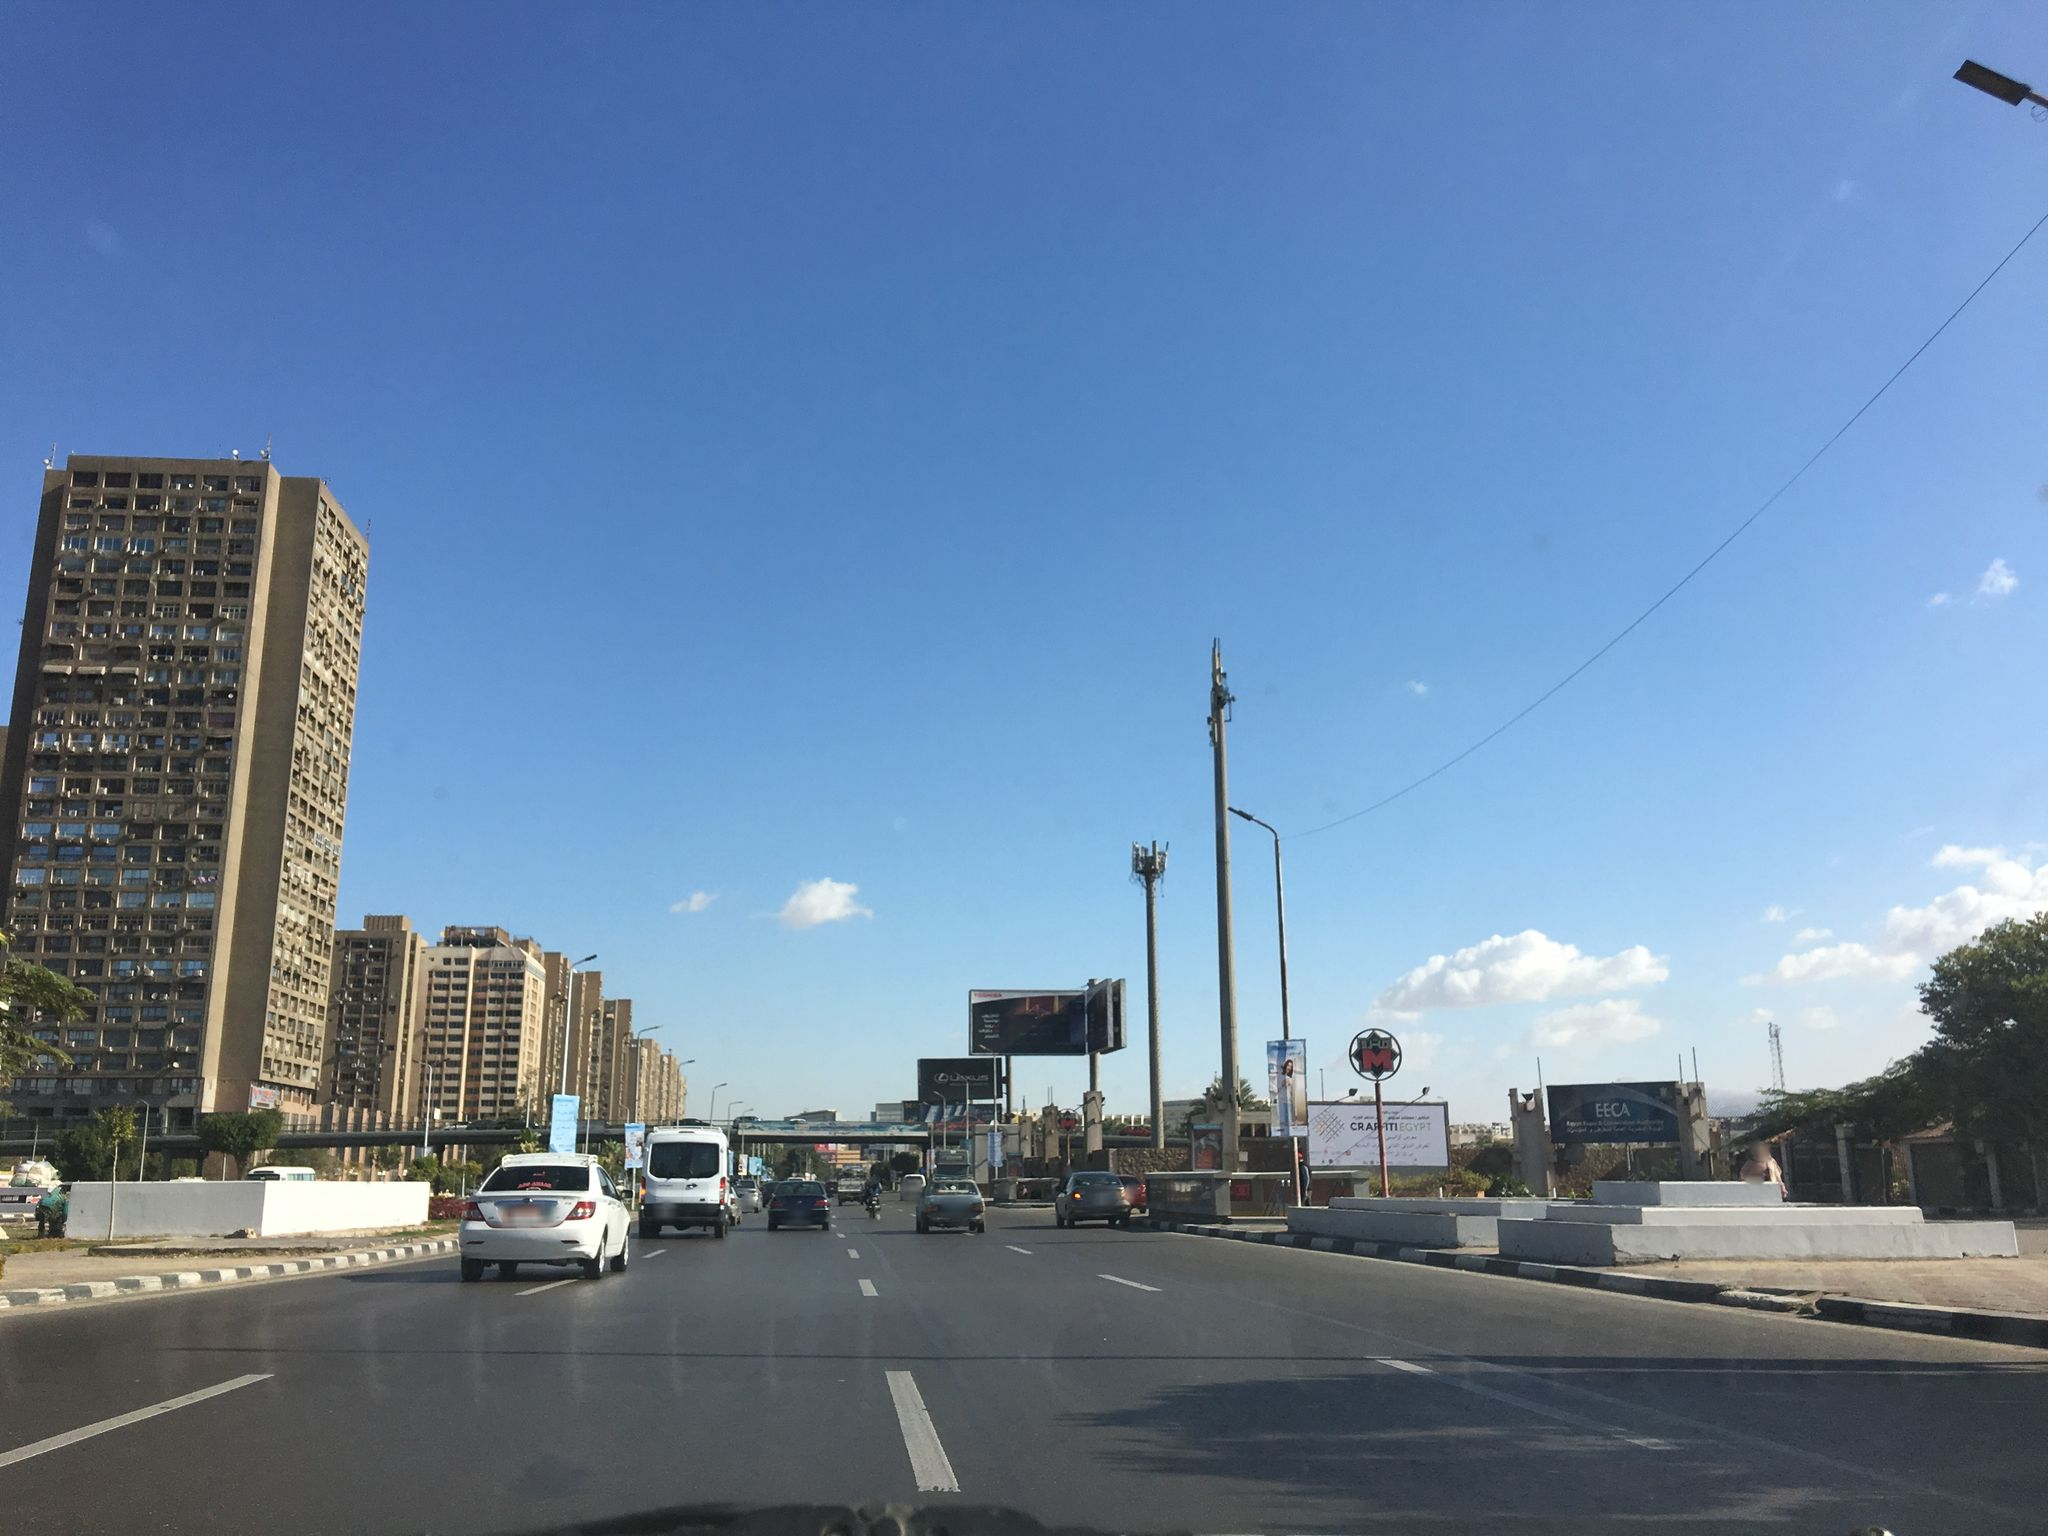bus: (245, 1165, 316, 1183)
car: (452, 1152, 635, 1283), (639, 1125, 737, 1238), (1053, 1170, 1134, 1228), (914, 1178, 987, 1233), (764, 1179, 834, 1231), (1114, 1173, 1147, 1212), (835, 1167, 866, 1204), (734, 1184, 763, 1213), (895, 1175, 926, 1200)
motorcycle: (864, 1191, 882, 1220)
